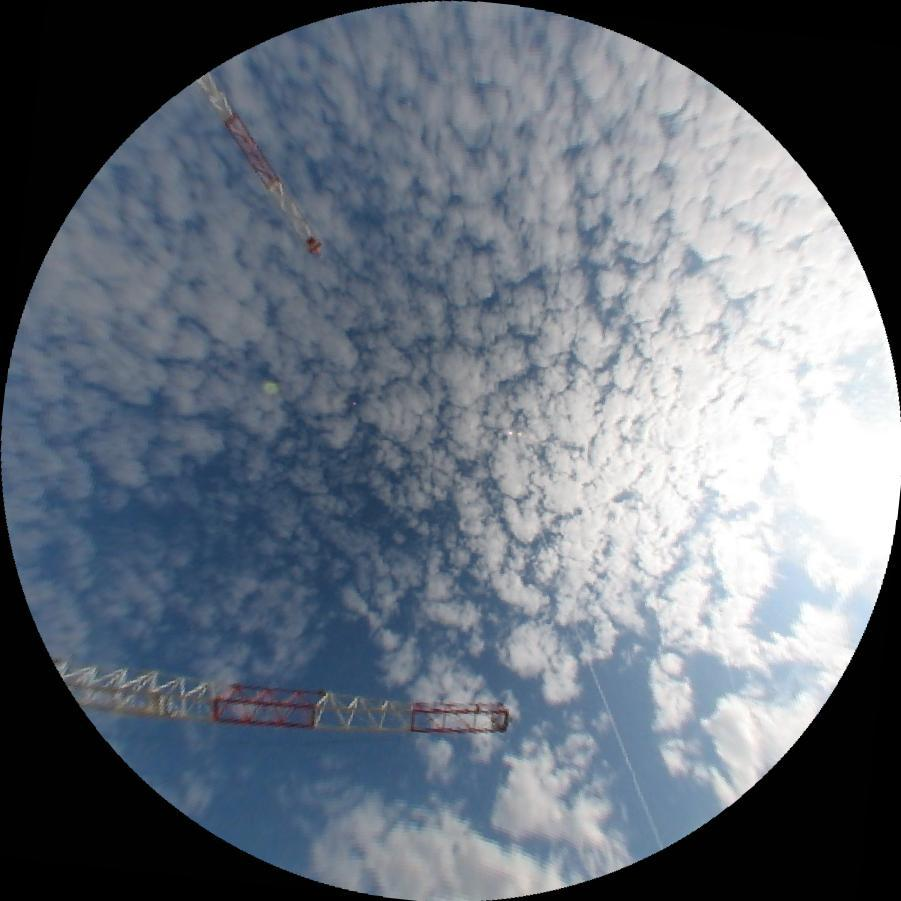contrail young: (569, 621, 665, 849)
